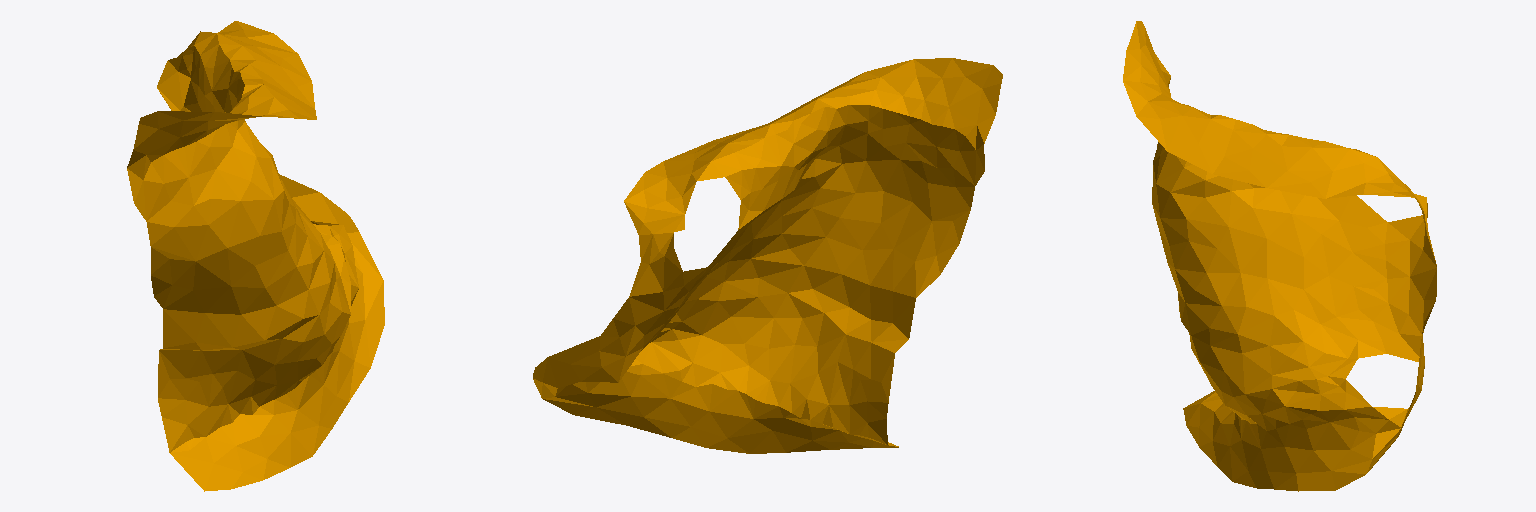
The robot description file, URDF, robot "init":
<?xml version='1.0' encoding='utf-8'?>
<robot name="init">
<link name="link_0"><inertial><mass value="1.0" /><origin rpy="0 0 0" xyz="0.000000 0.000000 0.000000" /><inertia ixx="1.0" ixy="0.0" ixz="0.0" iyy="1.0" iyz="0.0" izz="1.0" /></inertial><visual><origin rpy="0 0 0" xyz="0.000000 0.000000 0.000000" /><geometry><mesh filename="./clothHuman/cloth/1996.obj" /></geometry></visual><collision><origin rpy="0 0 0" xyz="0.000000 0.000000 0.000000" /><geometry><mesh filename="./clothHuman/cloth/1996.obj" /></geometry></collision></link></robot>

--- Facts derived from the render (not from the file) ---
The picture shows the robot from 3 angles, left to right: view 1: azimuth 30°, elevation 25°; view 2: azimuth 150°, elevation 25°; view 3: azimuth 270°, elevation 25°; orthographic projection.
Robot: init — 1 links, 0 joints (none); root link link_0; default pose: every joint at zero.
Links seen in each view (by area): view 1: link_0; view 2: link_0; view 3: link_0.
Link boxes in pixels (x1=…): link_0: x1=127, y1=21, x2=384, y2=491; link_0: x1=533, y1=58, x2=1002, y2=453; link_0: x1=1123, y1=21, x2=1436, y2=491.
Size in the robot's own frame: 3.37 by 2.88 by 3.76 metres.
Meshes: 1 distinct files referenced, 1 mesh visuals loaded (1 OBJ).